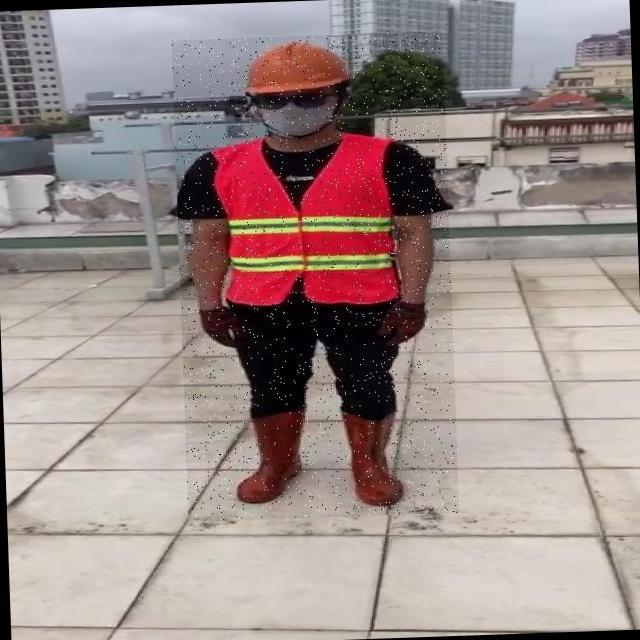Gloves: (201, 306, 253, 349), (380, 302, 429, 347)
Helmet: (244, 38, 358, 97)
Human: (172, 31, 461, 522)
Safety Boot: (236, 411, 309, 502), (345, 408, 410, 507)
Safety Vest: (220, 133, 402, 308)
